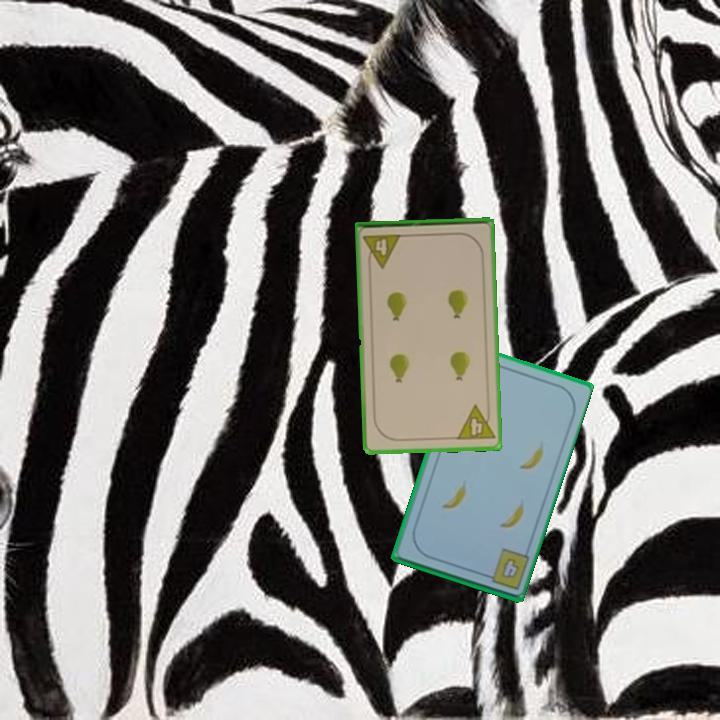4b: (479, 545, 532, 592)
4p: (453, 401, 497, 443), (360, 230, 404, 271)
